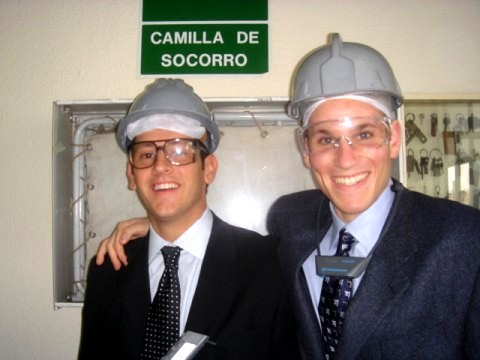person hardhat: (283, 32, 404, 213), (114, 78, 221, 221)
